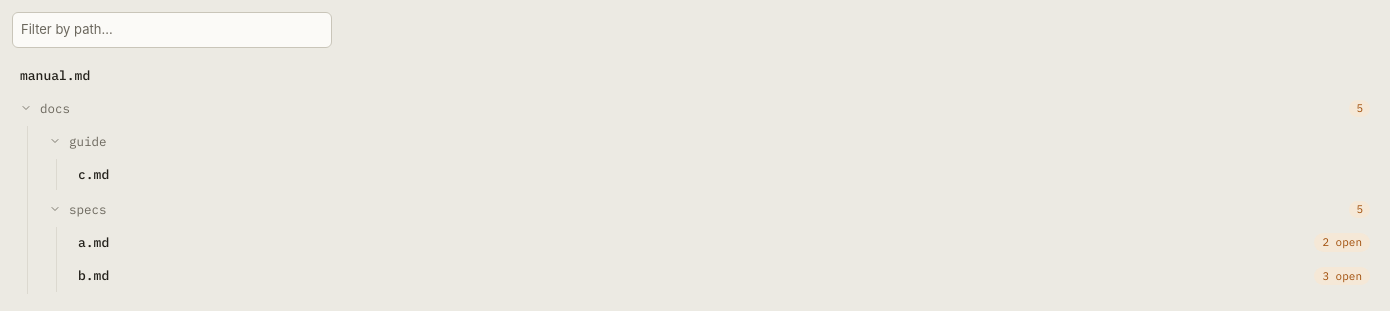
Test: ProjectTree › shows a no-match message when the filter matches nothing
Type "nonexistent-path" into the search field named "Filter documents by path" at (172, 30), box [12,12,332,48]
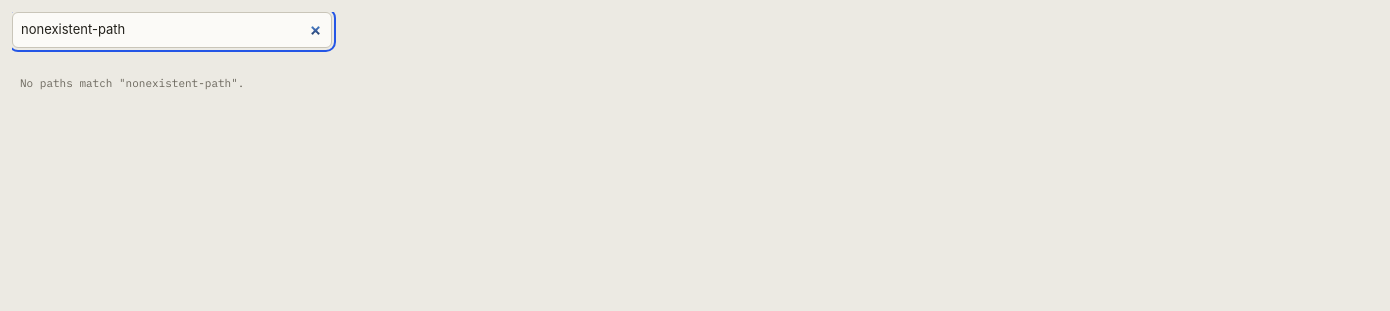
expect the text "No paths match \"nonexistent-path\"." is shown: met, box [20,76,244,90]
